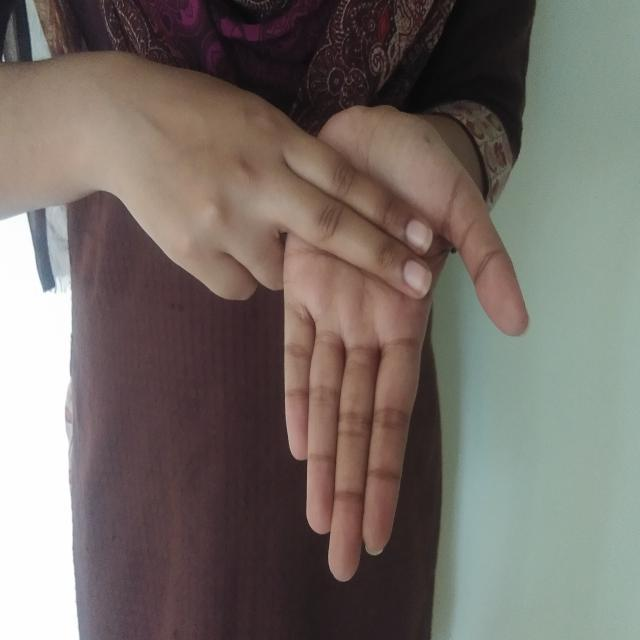N: (113, 52, 537, 589)
